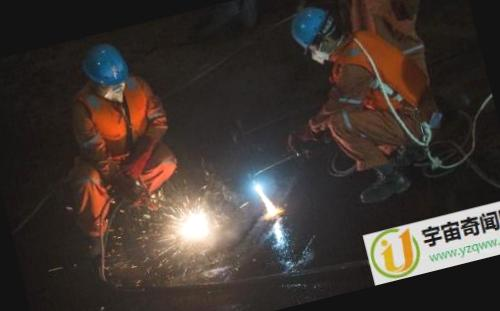person: (31, 26, 208, 256), (271, 0, 459, 216)
